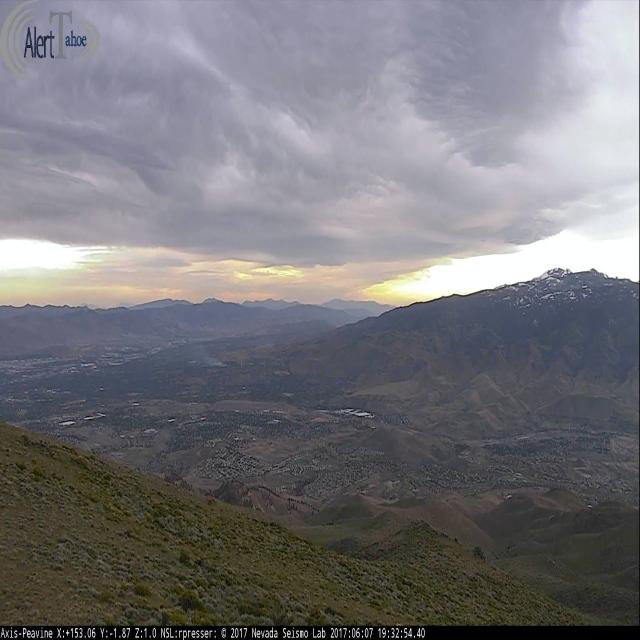smoke: (197, 350, 226, 367)
